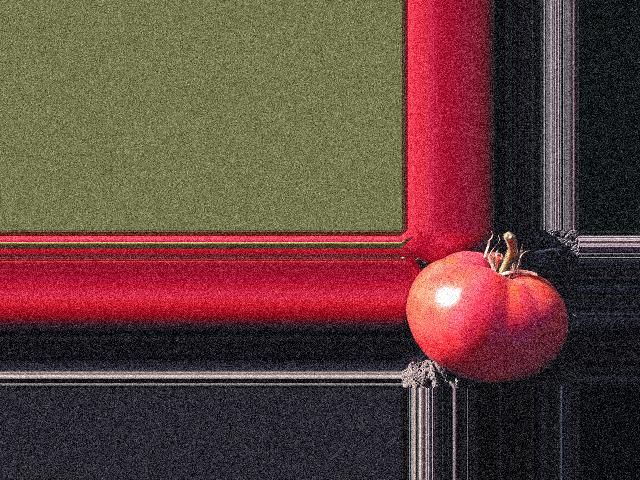tomato: (406, 252, 568, 383)
